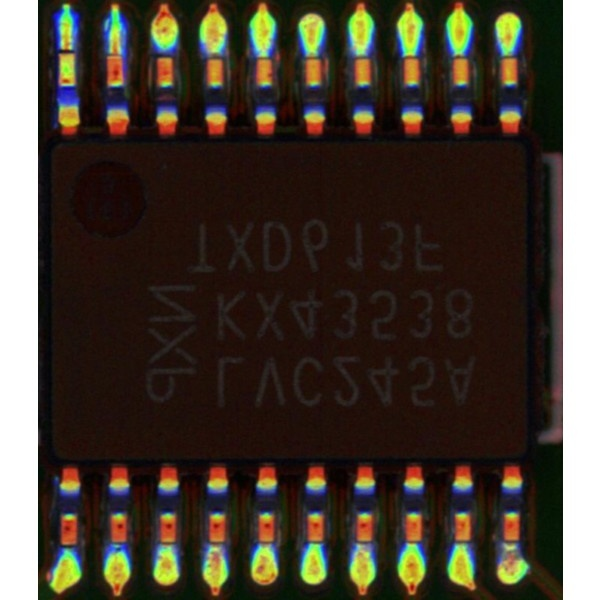Bad_podu: (60, 36, 73, 61), (109, 40, 121, 61)
